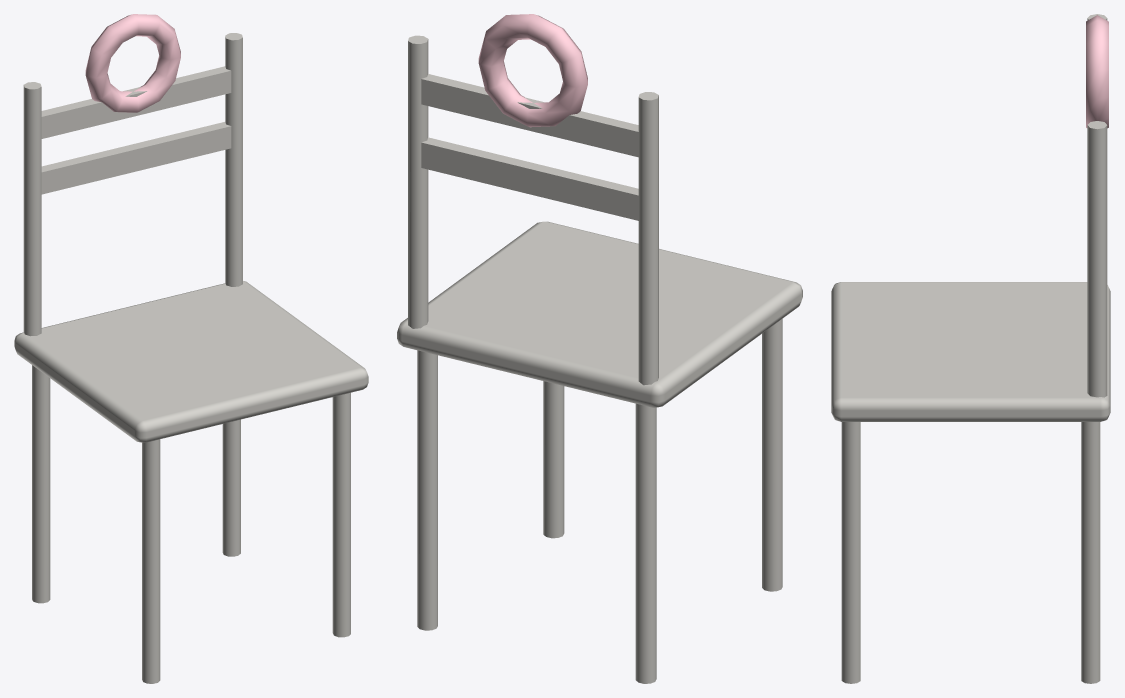
Rendered from wedding_chair.glb.
3 views of the same model, side by side, from view 1: azimuth 30°, elevation 25°; view 2: azimuth 150°, elevation 25°; view 3: azimuth 270°, elevation 25° (orthographic). The views are drawn at different scales.
Parts seen in each view (by area): view 1: main; view 2: main; view 3: main.
Part boxes in pixels (box(x1,y1,x2,y2)): main: box(14, 14, 368, 683); main: box(397, 14, 802, 683); main: box(831, 14, 1110, 683).
Bounding box in the file's own units: 0.44 × 1.01 × 0.42.
